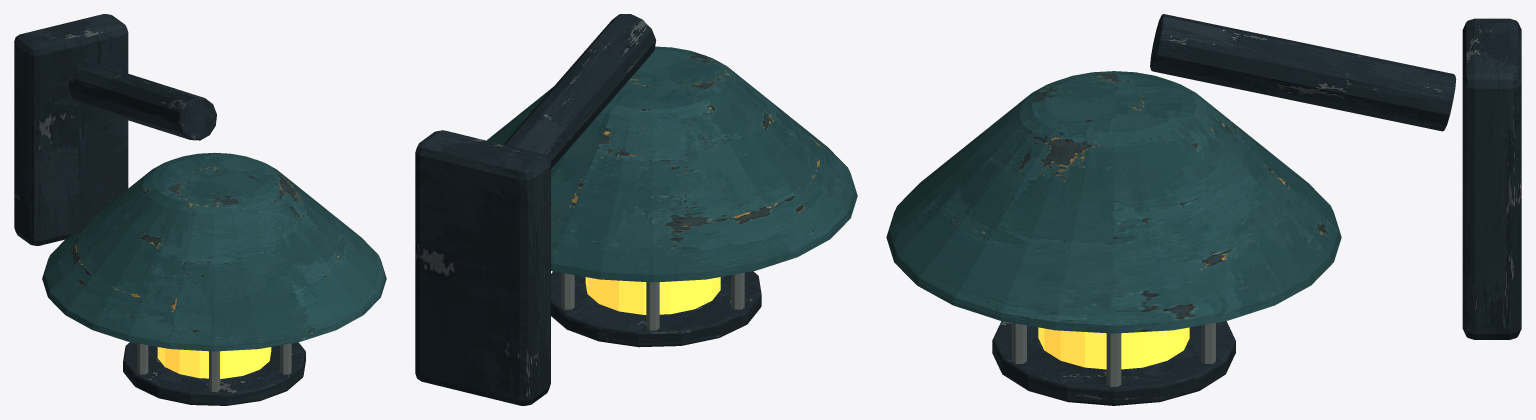
File: wall-lamp.glb
The picture shows the model from 3 angles, left to right: view 1: azimuth 30°, elevation 25°; view 2: azimuth 150°, elevation 25°; view 3: azimuth 270°, elevation 25°; orthographic projection. The views are drawn at different scales.
Parts seen in each view (by area): view 1: wall-lamp__wall-lamp__petrol, wall-lamp__wall-lamp__steel, wall-lamp__wall-lamp__signal-amber, wall-lamp__wall-lamp__hardware; view 2: wall-lamp__wall-lamp__petrol, wall-lamp__wall-lamp__steel, wall-lamp__wall-lamp__signal-amber, wall-lamp__wall-lamp__hardware; view 3: wall-lamp__wall-lamp__petrol, wall-lamp__wall-lamp__steel, wall-lamp__wall-lamp__signal-amber, wall-lamp__wall-lamp__hardware.
Part boxes in pixels (box(x1,y1,x2,y2)): wall-lamp__wall-lamp__petrol: box(42, 152, 386, 351); wall-lamp__wall-lamp__steel: box(14, 14, 305, 405); wall-lamp__wall-lamp__signal-amber: box(157, 347, 271, 378); wall-lamp__wall-lamp__hardware: box(137, 343, 291, 391); wall-lamp__wall-lamp__petrol: box(487, 46, 857, 282); wall-lamp__wall-lamp__steel: box(415, 14, 761, 405); wall-lamp__wall-lamp__signal-amber: box(585, 277, 720, 314); wall-lamp__wall-lamp__hardware: box(561, 273, 744, 330); wall-lamp__wall-lamp__petrol: box(886, 71, 1341, 333); wall-lamp__wall-lamp__steel: box(992, 14, 1521, 405); wall-lamp__wall-lamp__signal-amber: box(1038, 327, 1189, 369); wall-lamp__wall-lamp__hardware: box(1012, 323, 1215, 386).
Bounding box in the file's own units: 0.5419 × 0.445 × 0.7559.
4 materials, 2 textured.
